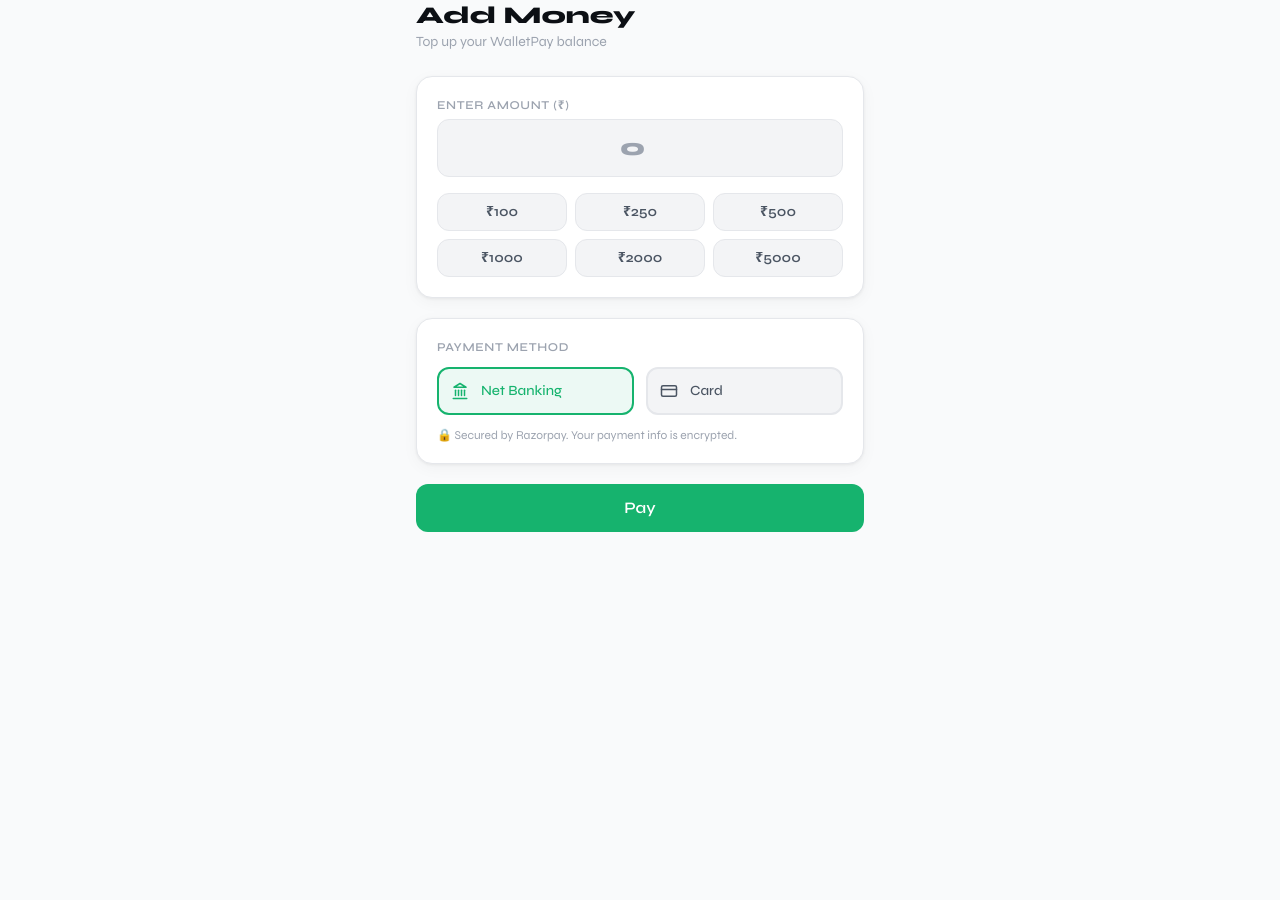
Scenario: AddMoney › processes a successful add money flow
Type "500" into the number field titled "Enter the amount you want to add".
click(640, 148); type("500")  # box [437, 119, 843, 177]
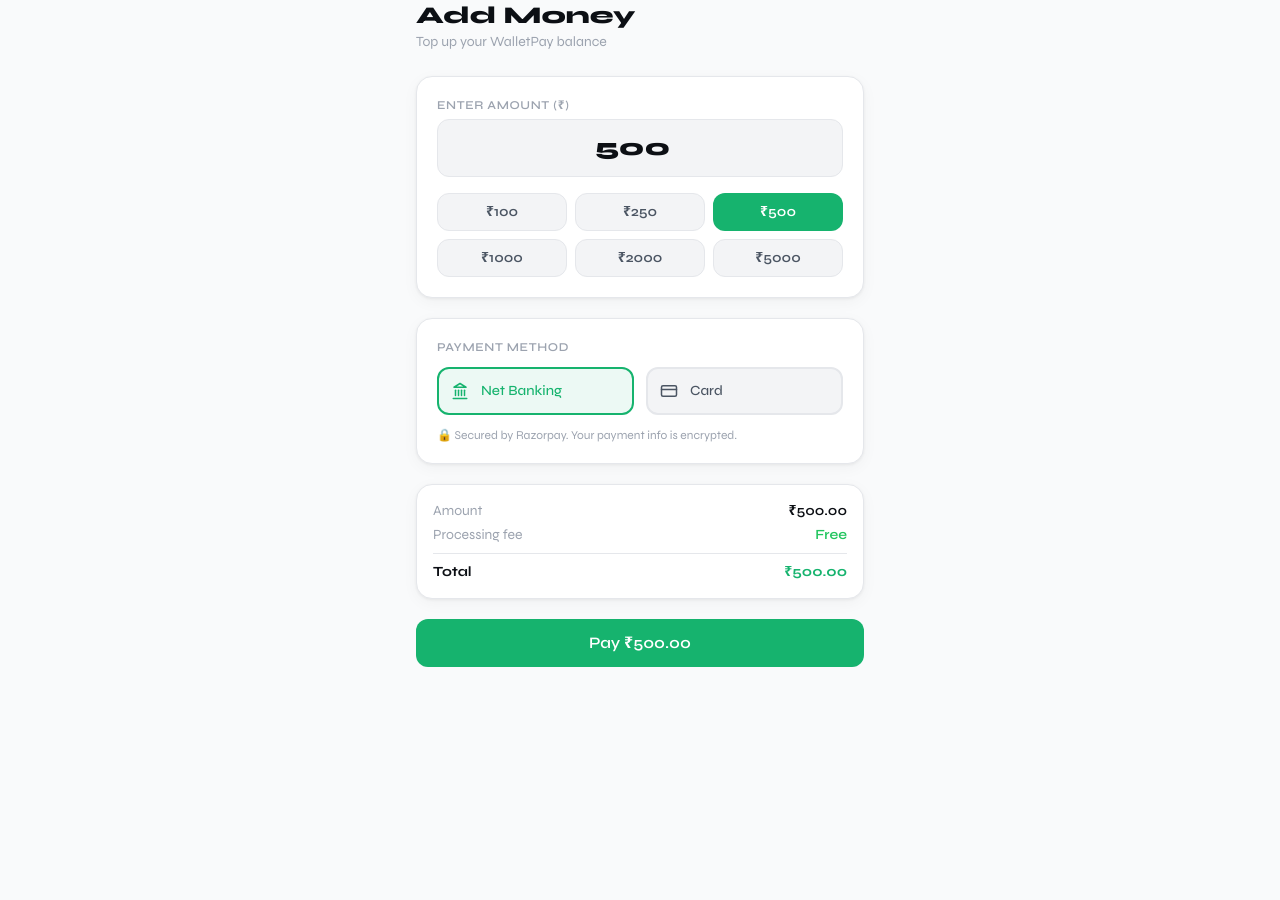
Click the button "Pay ₹500.00".
click(640, 643)  # box [416, 619, 864, 667]
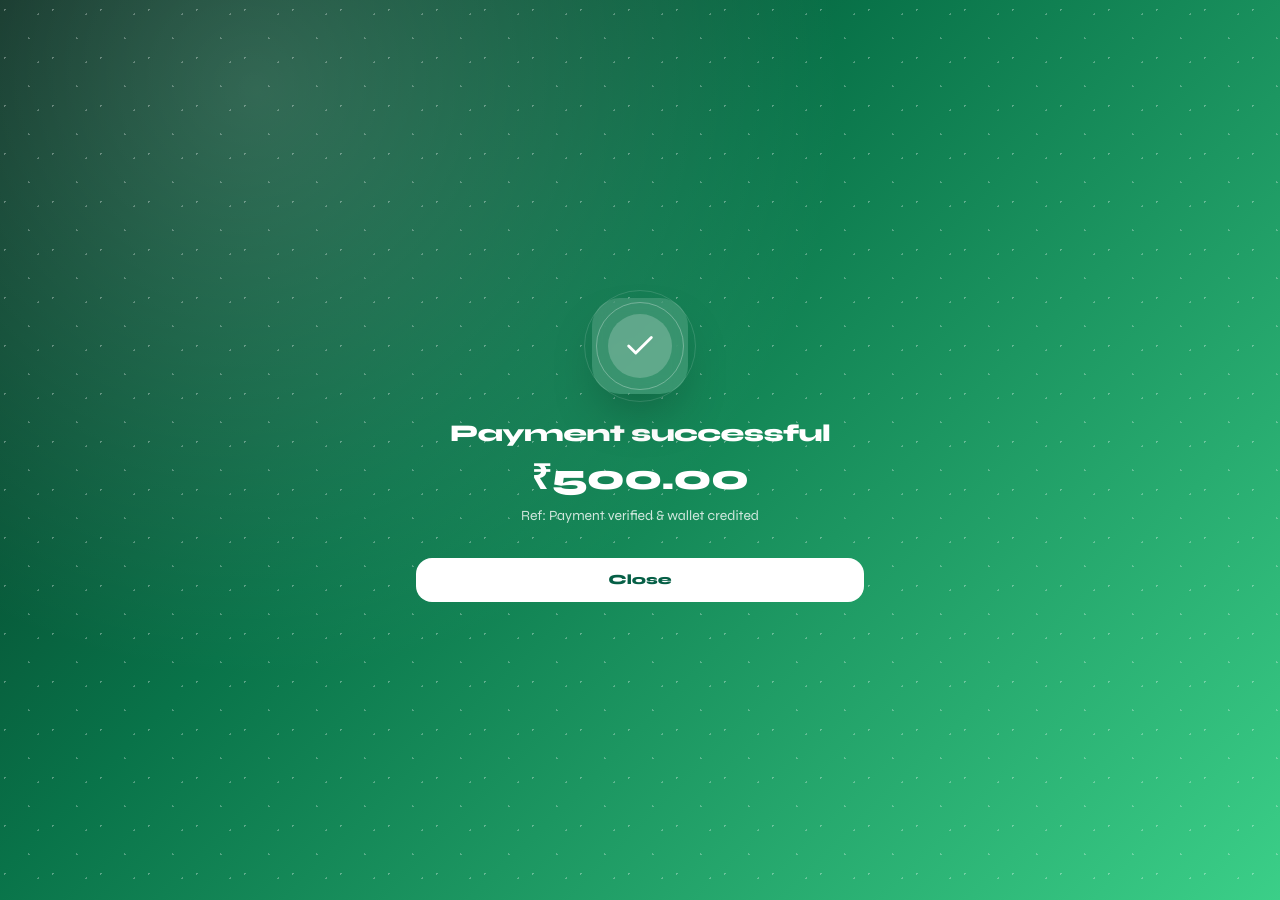
Check: the heading "Payment Successful" is shown, box [449, 189, 831, 217]
Check: the 1st text "Ref: Payment verified & wallet credited" is shown, box [538, 262, 742, 276]
